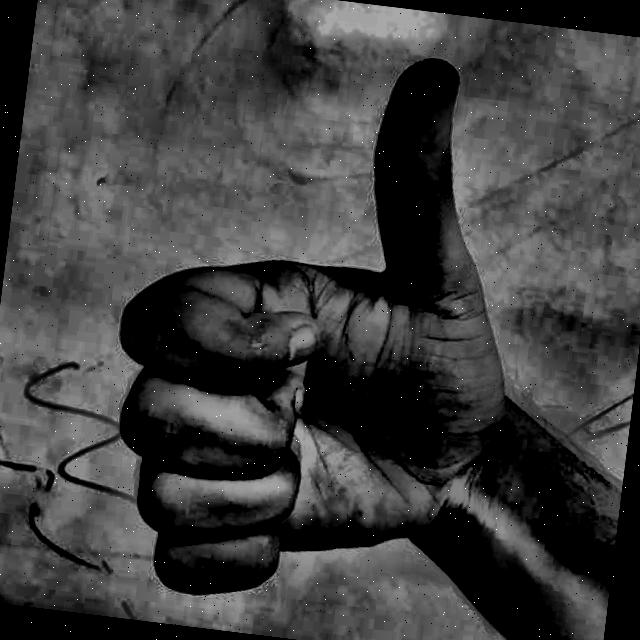Do: (57, 4, 556, 636)
